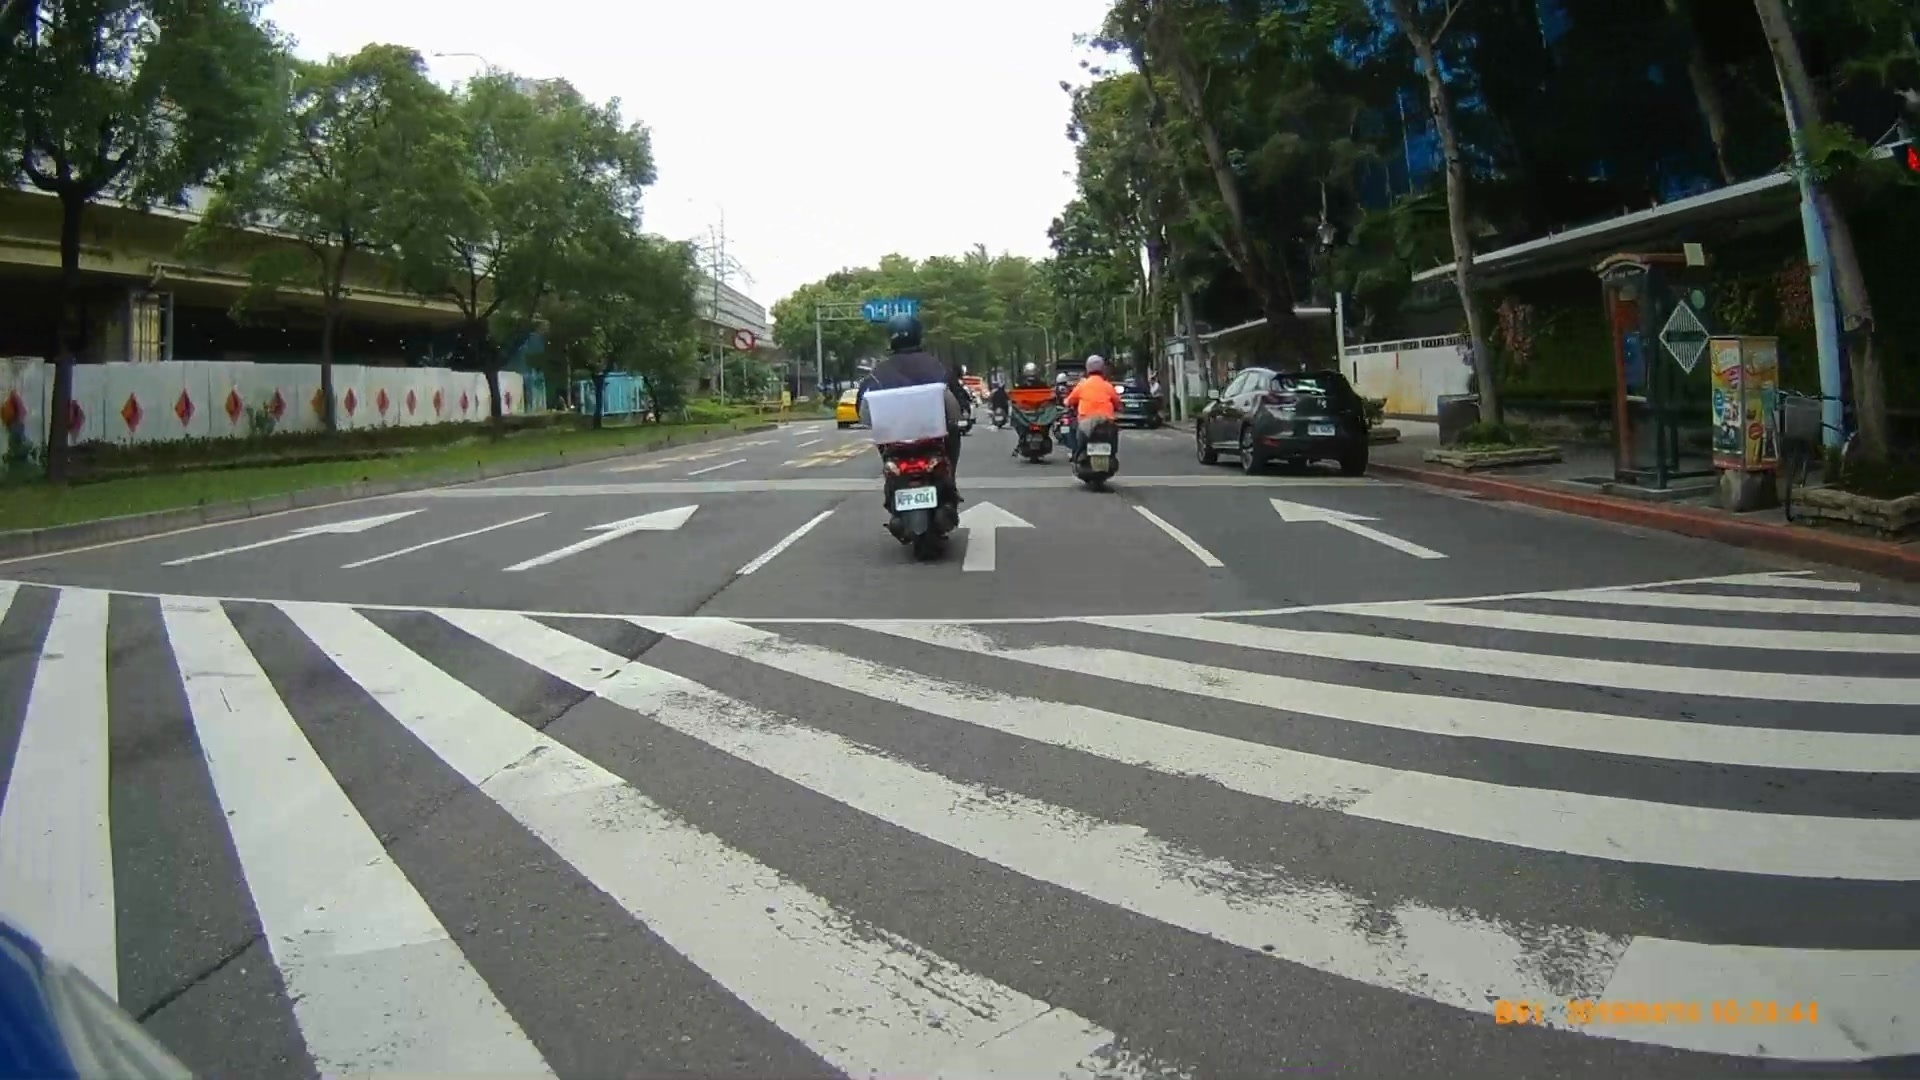License_plate: (893, 489, 936, 512), (1086, 443, 1115, 457)
